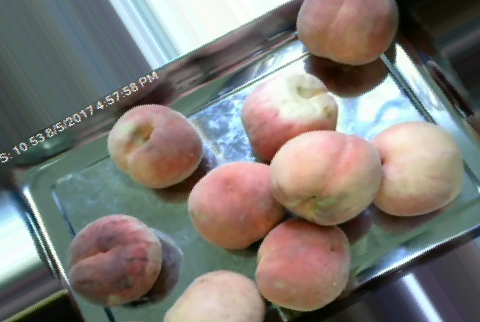Peach: (269, 128, 380, 223), (253, 218, 355, 312), (368, 121, 464, 215), (70, 215, 167, 304), (244, 70, 339, 160), (190, 160, 286, 249), (107, 102, 202, 189), (295, 0, 397, 65), (164, 266, 263, 322)
